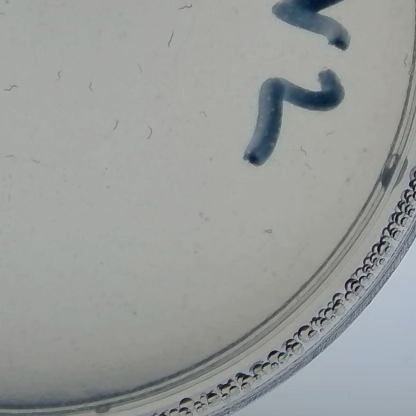worm: (155, 30, 186, 51), (19, 150, 48, 171), (391, 50, 414, 75), (134, 124, 158, 143), (315, 127, 339, 145), (170, 1, 195, 18), (2, 77, 23, 97), (294, 143, 311, 164), (0, 191, 17, 211), (105, 119, 123, 137), (194, 107, 212, 123), (55, 64, 68, 86), (0, 151, 16, 167), (131, 60, 146, 76), (88, 76, 98, 97), (301, 160, 316, 173)
